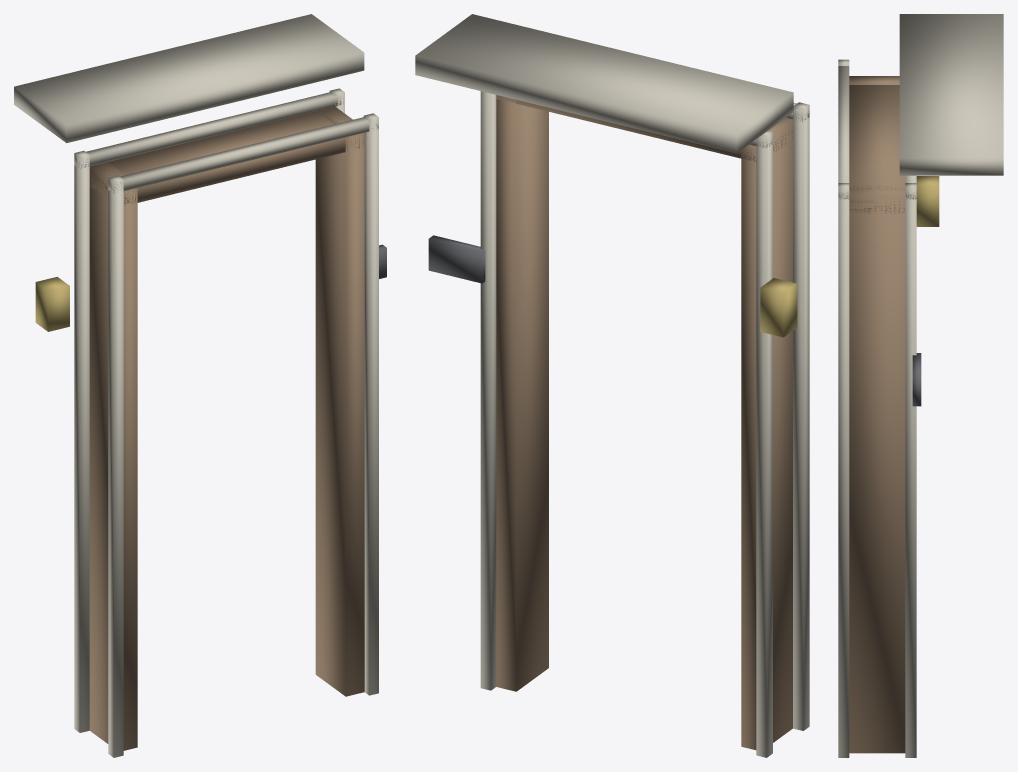
Rendered from doorway_motel_w96_h240_d24.glb.
3 renders of one model, left to right at view 1: azimuth 30°, elevation 25°; view 2: azimuth 150°, elevation 25°; view 3: azimuth 270°, elevation 25°, orthographic. The views are drawn at different scales.
Parts seen in each view (by area): view 1: world; view 2: world; view 3: world.
Boxes of the visible parts, box(x1,y1,x2,y2) form: world: box(14, 14, 386, 757); world: box(415, 14, 809, 757); world: box(838, 14, 1003, 757).
Bounding box in the file's own units: 1.56 × 2.71 × 0.6682.
